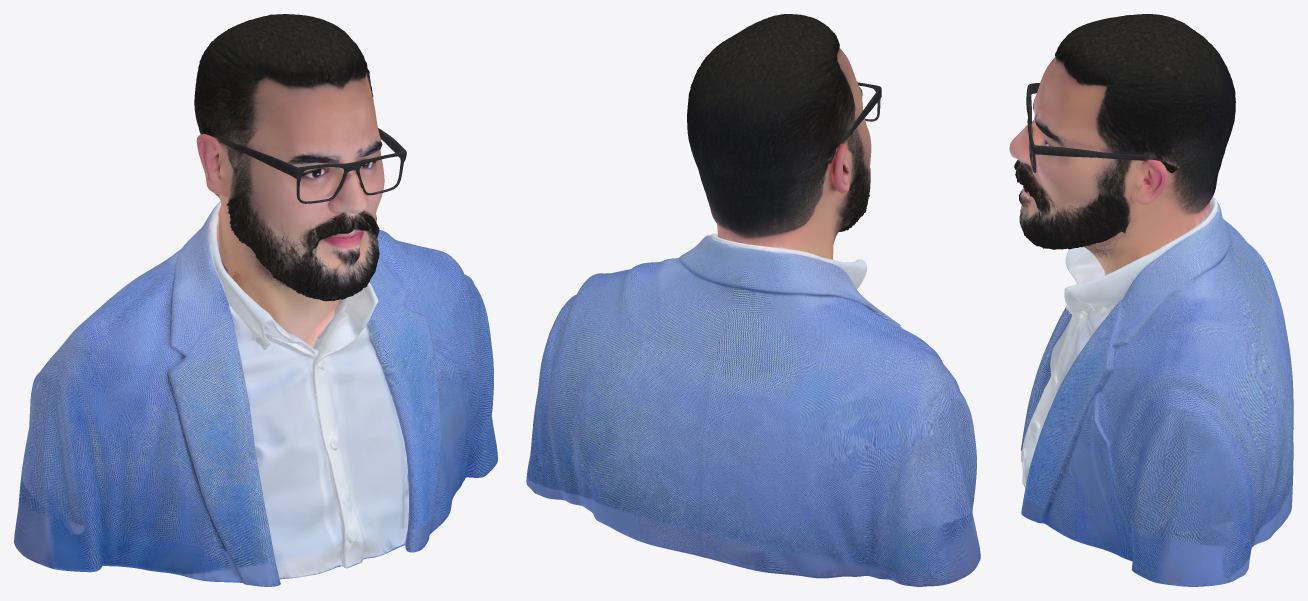
File: busto-jonatas.min.glb
3 renders of one model, left to right at view 1: azimuth 30°, elevation 25°; view 2: azimuth 150°, elevation 25°; view 3: azimuth 270°, elevation 25°, orthographic. The views are drawn at different scales.
Visible parts, largest first — view 1: mesh_node; view 2: mesh_node; view 3: mesh_node.
Boxes of the visible parts, x1,y1,x2,y2 form: mesh_node: [14, 14, 497, 586]; mesh_node: [526, 14, 980, 586]; mesh_node: [1009, 14, 1293, 586].
Size of the model in its own units: 0.3881 by 0.4 by 0.2236.
Materials: 1 (1 with a texture image).
